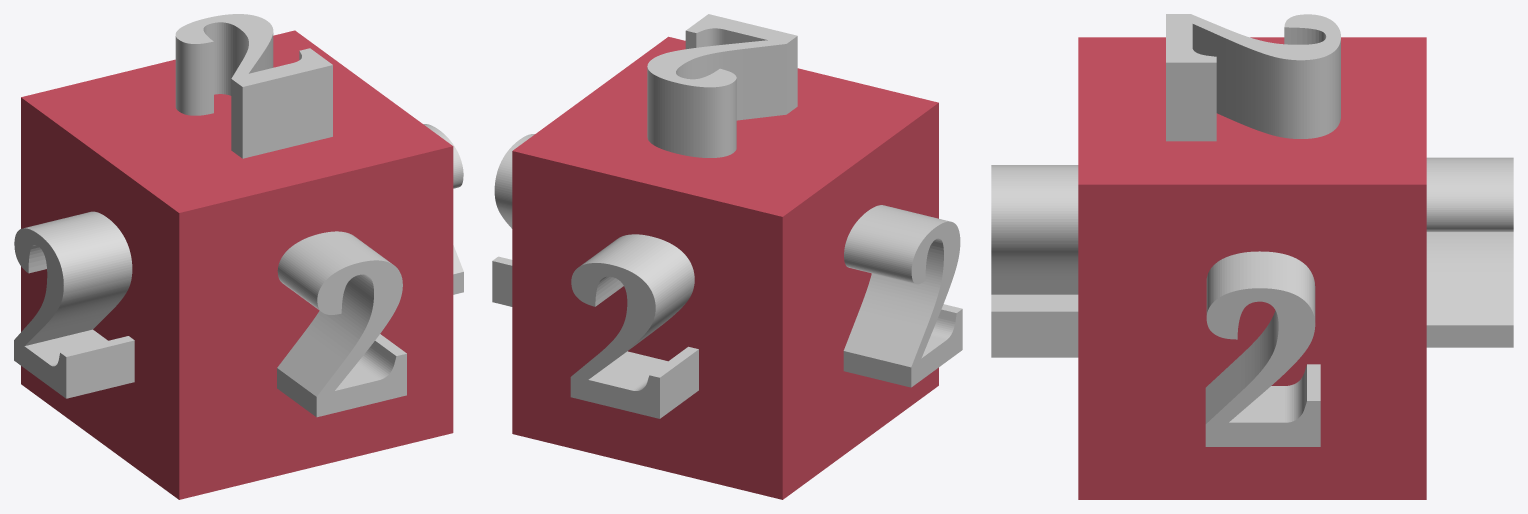
File: number2.glb
3 views of the same model, side by side, from view 1: azimuth 30°, elevation 25°; view 2: azimuth 150°, elevation 25°; view 3: azimuth 270°, elevation 25° (orthographic). The views are drawn at different scales.
Visible parts, largest first — view 1: Mesh_Mesh_head_geo.001_lambert2SG.001; view 2: Mesh_Mesh_head_geo.001_lambert2SG.001; view 3: Mesh_Mesh_head_geo.001_lambert2SG.001.
Part boxes in pixels (x1,y1,x2,y2): Mesh_Mesh_head_geo.001_lambert2SG.001: (14, 14, 463, 499); Mesh_Mesh_head_geo.001_lambert2SG.001: (492, 14, 962, 499); Mesh_Mesh_head_geo.001_lambert2SG.001: (991, 14, 1513, 499).
Bounding box in the file's own units: 60 × 50 × 60.
